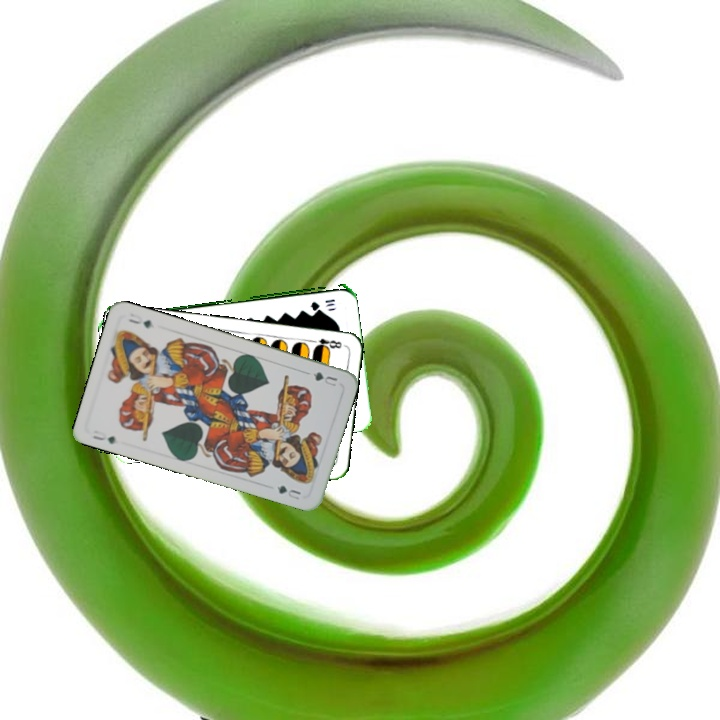E8: (306, 334, 344, 353)
G10: (307, 295, 337, 311)
GU: (308, 368, 340, 389), (89, 431, 118, 446)
